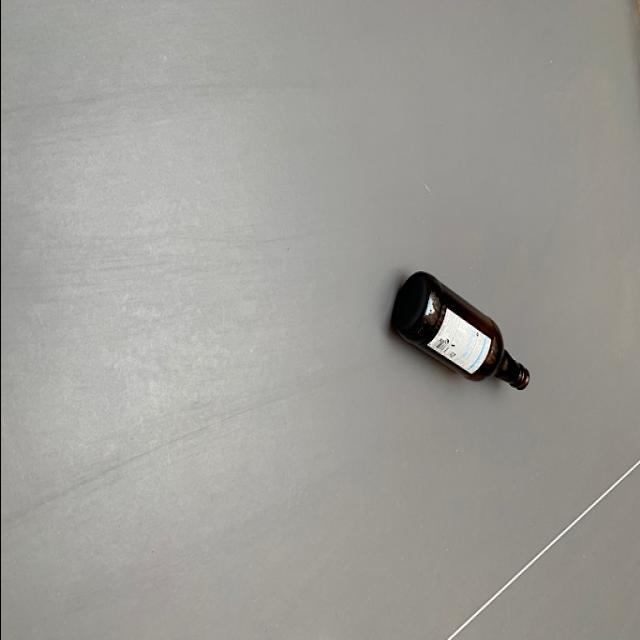litter: (392, 270, 530, 401)
